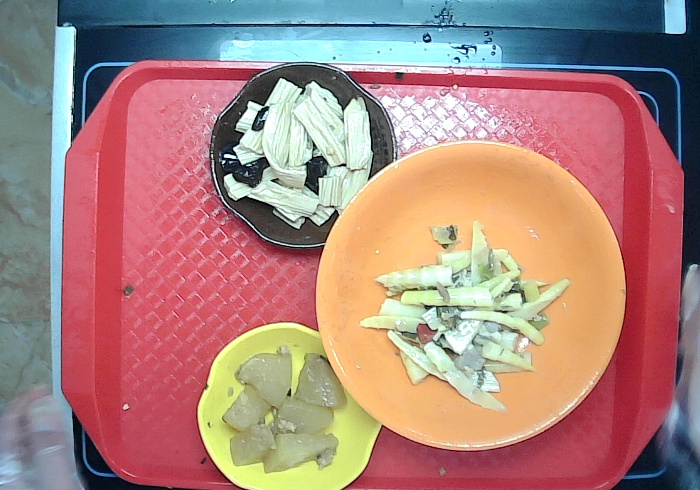YKMZ-Huang_Se_Ao_Bian_Wan: (195, 323, 382, 490)
YKMZ-Ju_Se_Tang_Wan: (312, 139, 628, 455)
YKMZ-Ka_Fei_Ao_Bian_Wan: (208, 62, 401, 250)
